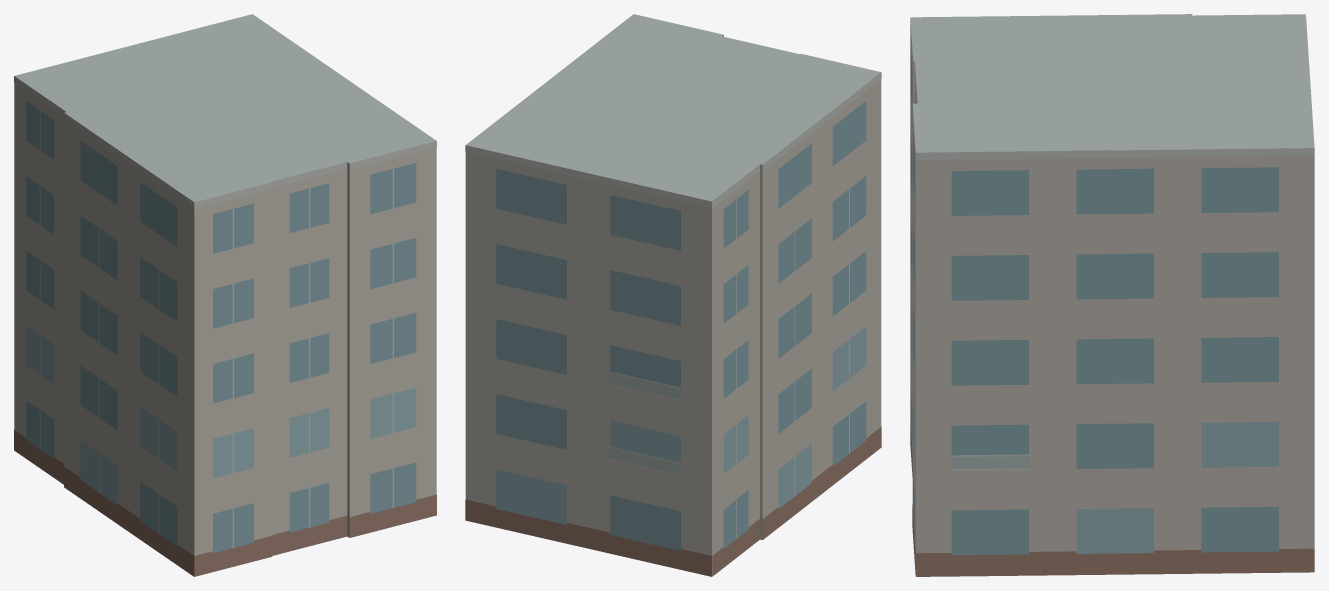
Rendered from survey-upis-32926006.glb.
3 renders of one model, left to right at view 1: azimuth 30°, elevation 25°; view 2: azimuth 150°, elevation 25°; view 3: azimuth 270°, elevation 25°, orthographic. The views are drawn at different scales.
Visible parts, largest first — view 1: survey-upis-32926006.tmp; view 2: survey-upis-32926006.tmp; view 3: survey-upis-32926006.tmp.
Boxes of the visible parts, <box> form: survey-upis-32926006.tmp: <box>14,14,436,576</box>; survey-upis-32926006.tmp: <box>465,14,881,576</box>; survey-upis-32926006.tmp: <box>910,14,1314,576</box>.
Bounding box in the file's own units: 9.61 × 13.7 × 11.84.
